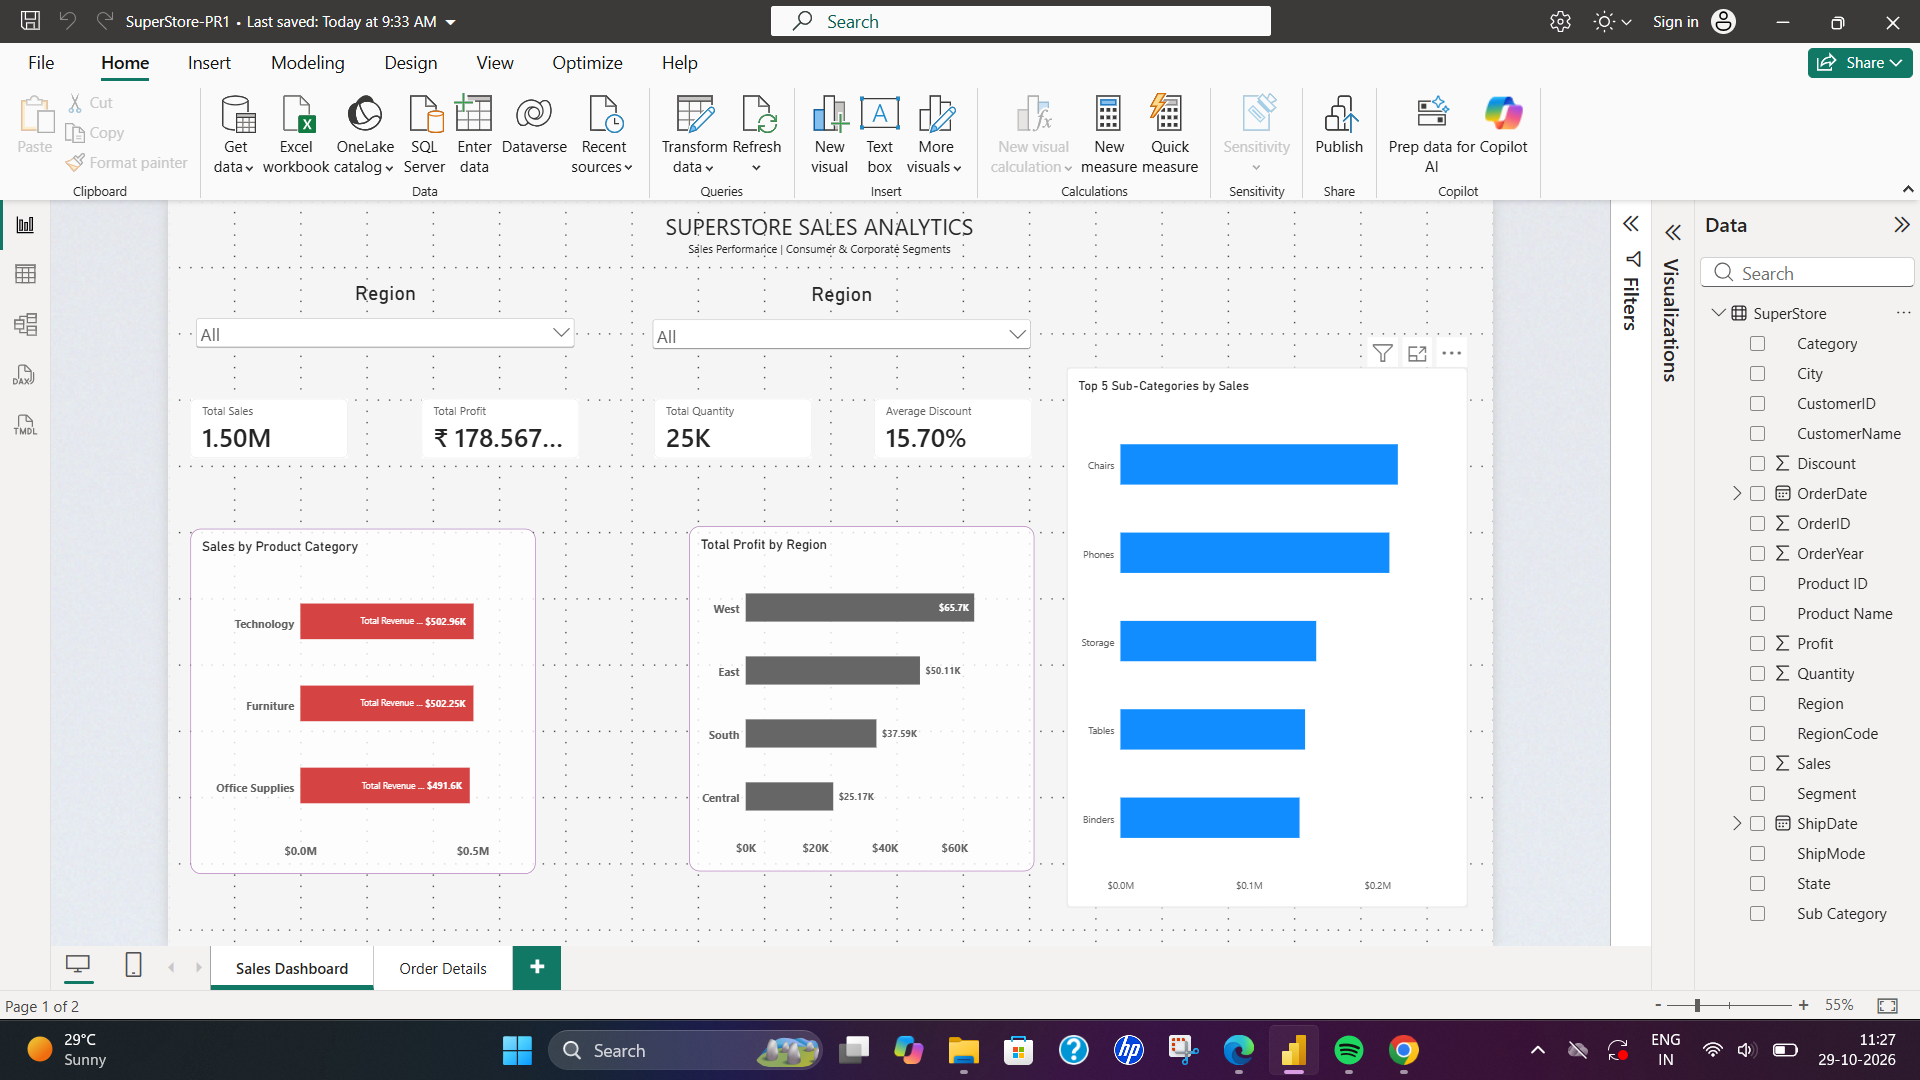

This screenshot's page, from the dashboard's own definition file:
{"tool":"powerbi","page":{"name":"Sales Dashboard","canvas":[1920,1080],"ordinal":0},"visuals":[{"type":"cardVisual","fields":{"Data":["Sum(SuperStore.Profit)"]},"box":[368,288,228,86.4],"z":0},{"type":"cardVisual","fields":{"Data":["Sum(SuperStore.Sales)"]},"box":[32,288,228,86.4],"z":1000},{"type":"cardVisual","fields":{"Data":["Sum(SuperStore.Quantity)"]},"box":[704,288,228,86.4],"z":2000},{"type":"cardVisual","fields":{"Data":["Avg(SuperStore.Discount)"]},"box":[1024,288,228,86.4],"z":3000},{"type":"clusteredBarChart","title":"Sales by Product Category","fields":{"Category":["SuperStore.Category"],"Y":["Sum(SuperStore.Sales)"]},"box":[32.9,475.5,500,500],"z":4000},{"type":"clusteredBarChart","title":"Total Profit by Region","fields":{"Category":["SuperStore.Region"],"Y":["Sum(SuperStore.Profit)"]},"box":[755.4,473.4,500,500],"z":5000},{"type":"textbox","box":[0,16,1888,80],"z":6000},{"type":"slicer","title":"Region","fields":{"Values":["SuperStore.Region"]},"box":[37,117.3,557.8,125.6],"z":7000},{"type":"slicer","title":"Region","fields":{"Values":["SuperStore.Category"]},"box":[697.8,119.4,557.8,125.6],"z":8000},{"type":"clusteredBarChart","title":"Top 5 Sub-Categories by Sales","fields":{"Category":["SuperStore.Sub Category"],"Y":["Sum(SuperStore.Sales)"]},"box":[1302.9,242.9,580.4,782.2],"z":9000}]}

Visuals, with their boxes on the page's 1920x1080 design canvas (x1, y1, x2, y2). These are canvas units, not pixel positions in the 1920x1080 screenshot, which may show the page scaled, cropped or inside an application window:
cardVisual - Sum(SuperStore.Profit): 368:288:596:374
cardVisual - Sum(SuperStore.Sales): 32:288:260:374
cardVisual - Sum(SuperStore.Quantity): 704:288:932:374
cardVisual - Avg(SuperStore.Discount): 1024:288:1252:374
"Sales by Product Category" clusteredBarChart: 33:476:533:976
"Total Profit by Region" clusteredBarChart: 755:473:1255:973
textbox: 0:16:1888:96
"Region" slicer: 37:117:595:243
"Region" slicer: 698:119:1256:245
"Top 5 Sub-Categories by Sales" clusteredBarChart: 1303:243:1883:1025
